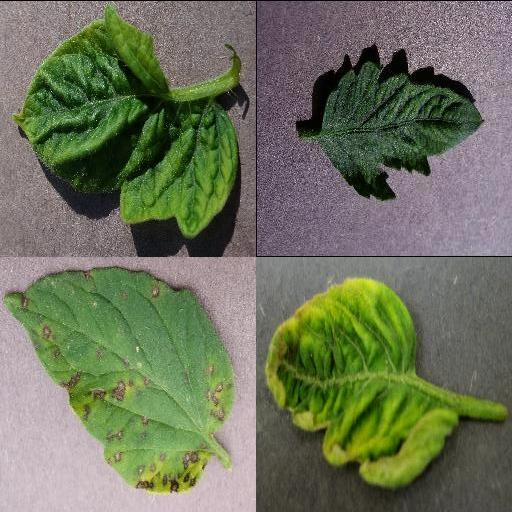Mosaic Virus: (319, 59, 485, 201)
Septoria: (4, 264, 236, 492)
Yellow Leaf Curl Virus: (13, 4, 237, 239), (266, 276, 462, 488)
